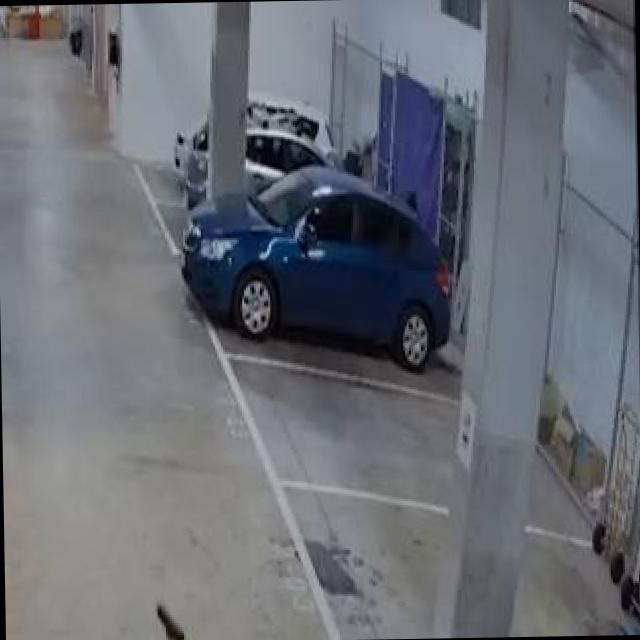Guns: (148, 594, 203, 640)
